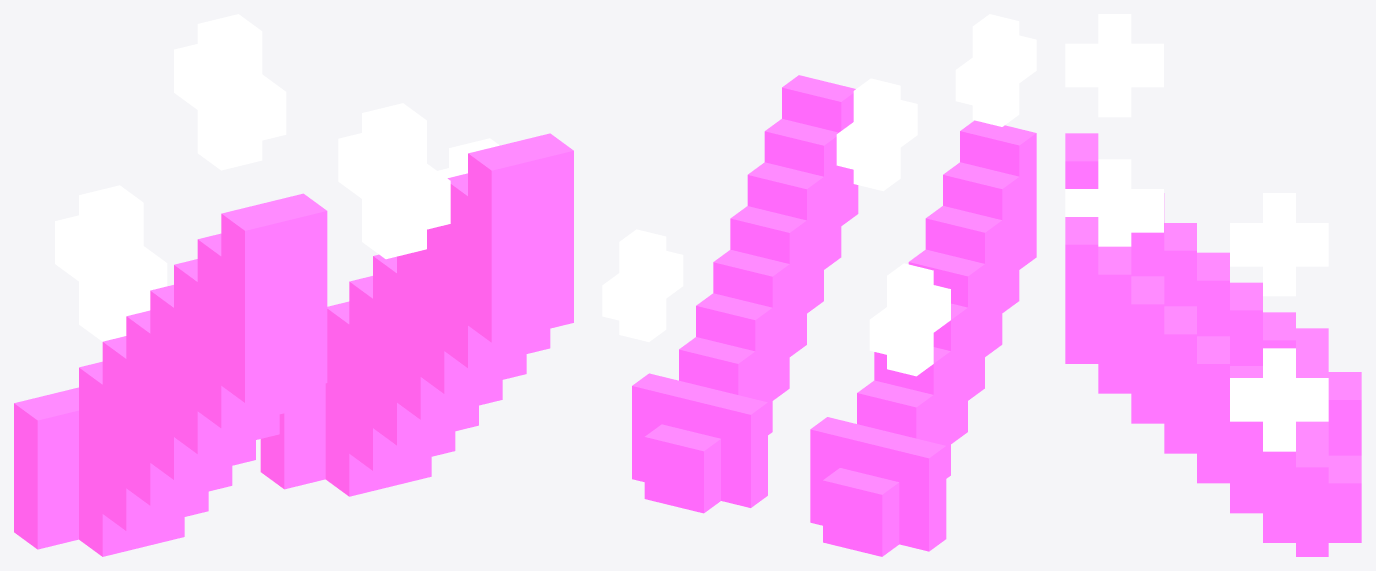
Rendered from 2912_gaze_red-beam.glb.
3 renders of one model, left to right at view 1: azimuth 30°, elevation 25°; view 2: azimuth 150°, elevation 25°; view 3: azimuth 270°, elevation 25°, orthographic. The views are drawn at different scales.
Size of the model in its own units: 11 by 14 by 9.
